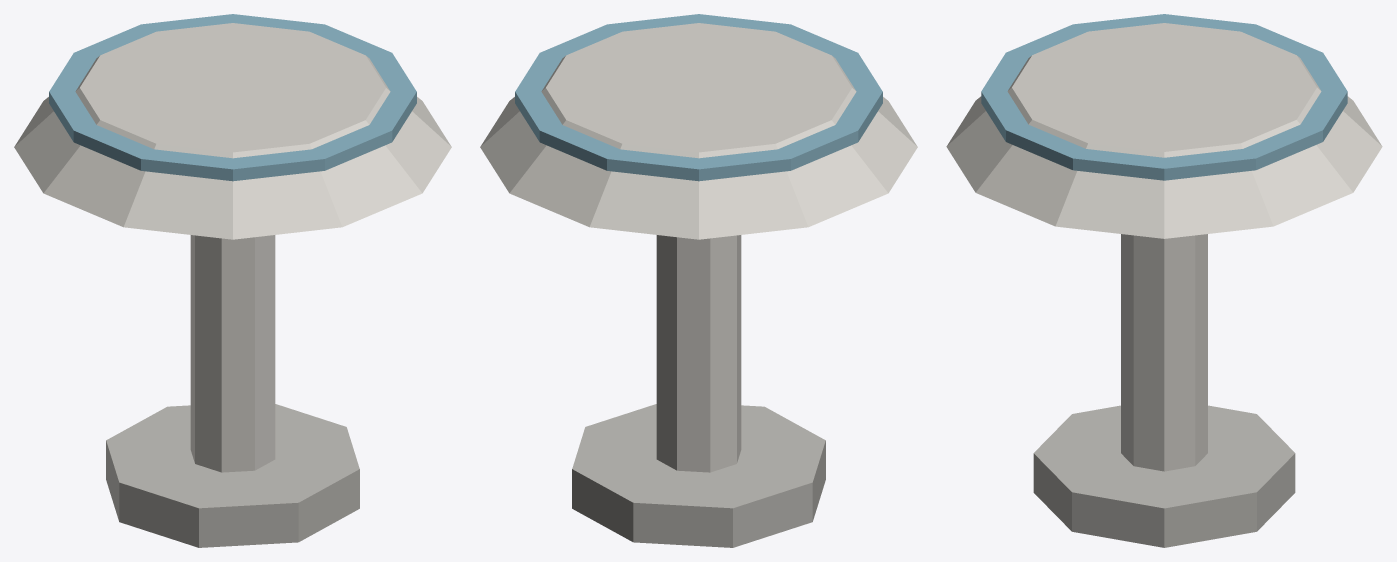
File: birdbath.glb
3 views of the same model, side by side, from view 1: azimuth 30°, elevation 25°; view 2: azimuth 150°, elevation 25°; view 3: azimuth 270°, elevation 25° (orthographic).
Parts seen in each view (by area): view 1: birdbath; view 2: birdbath; view 3: birdbath.
Part boxes in pixels (<box>): birdbath: <box>14,14,451,547</box>; birdbath: <box>480,14,917,547</box>; birdbath: <box>946,14,1382,547</box>.
Size of the model in its own units: 1 by 1.02 by 1.
